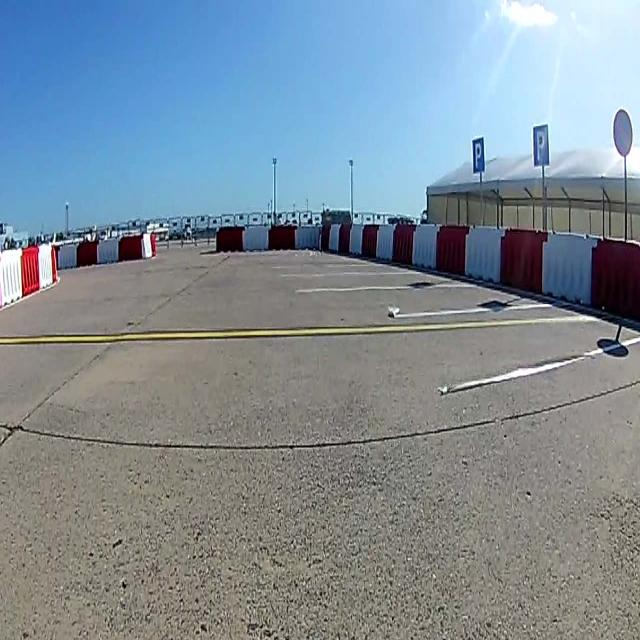park: (533, 124, 550, 168), (472, 136, 486, 173)
parkyasak: (614, 108, 632, 158)
